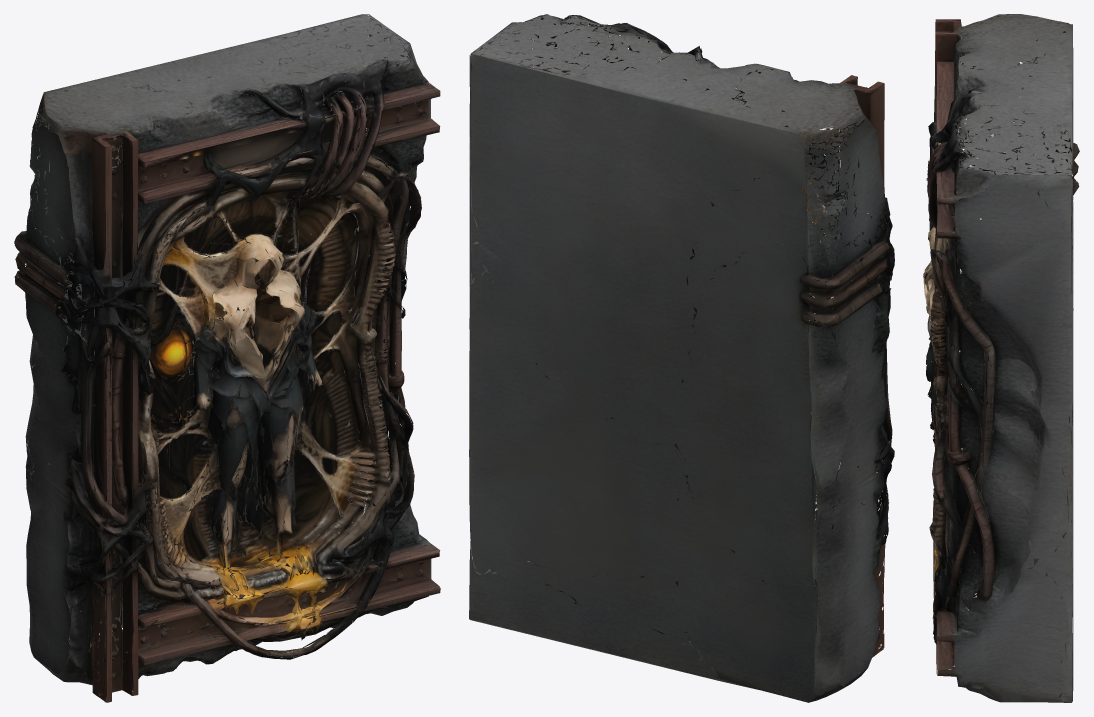
Rendered from tina_shedding_cocoon_niche.glb.
3 renders of one model, left to right at view 1: azimuth 30°, elevation 25°; view 2: azimuth 150°, elevation 25°; view 3: azimuth 270°, elevation 25°, orthographic. The views are drawn at different scales.
Parts seen in each view (by area): view 1: node_0; view 2: node_0; view 3: node_0.
Part boxes in pixels (x1,y1,x2,y2): node_0: (14,14,440,702); node_0: (469,14,894,702); node_0: (923,14,1079,702).
Size of the model in its own units: 0.662 by 0.9912 by 0.2623.
1 material, 1 textured.
